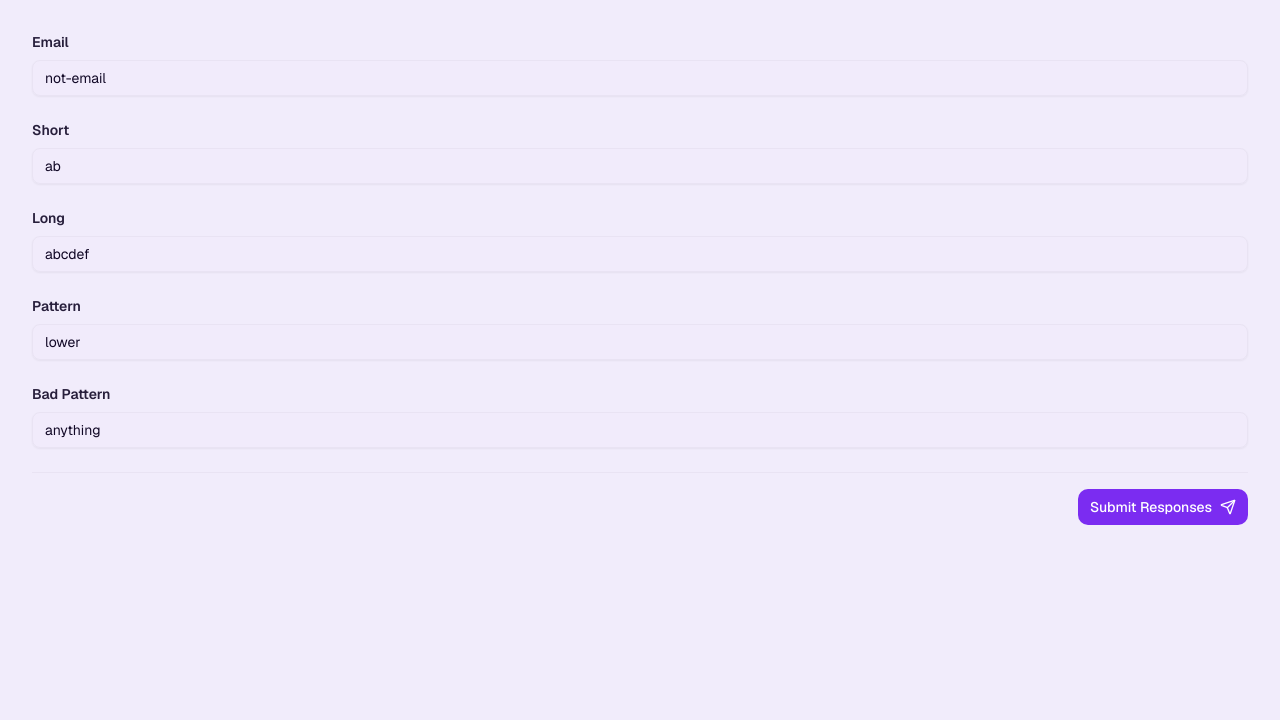
DynamicSurveyForm › validates email, minLength, maxLength, pattern, and invalid pattern fallback
Step 1. Click the button "Submit Responses" → (1163, 507), box [1078,489,1248,525]
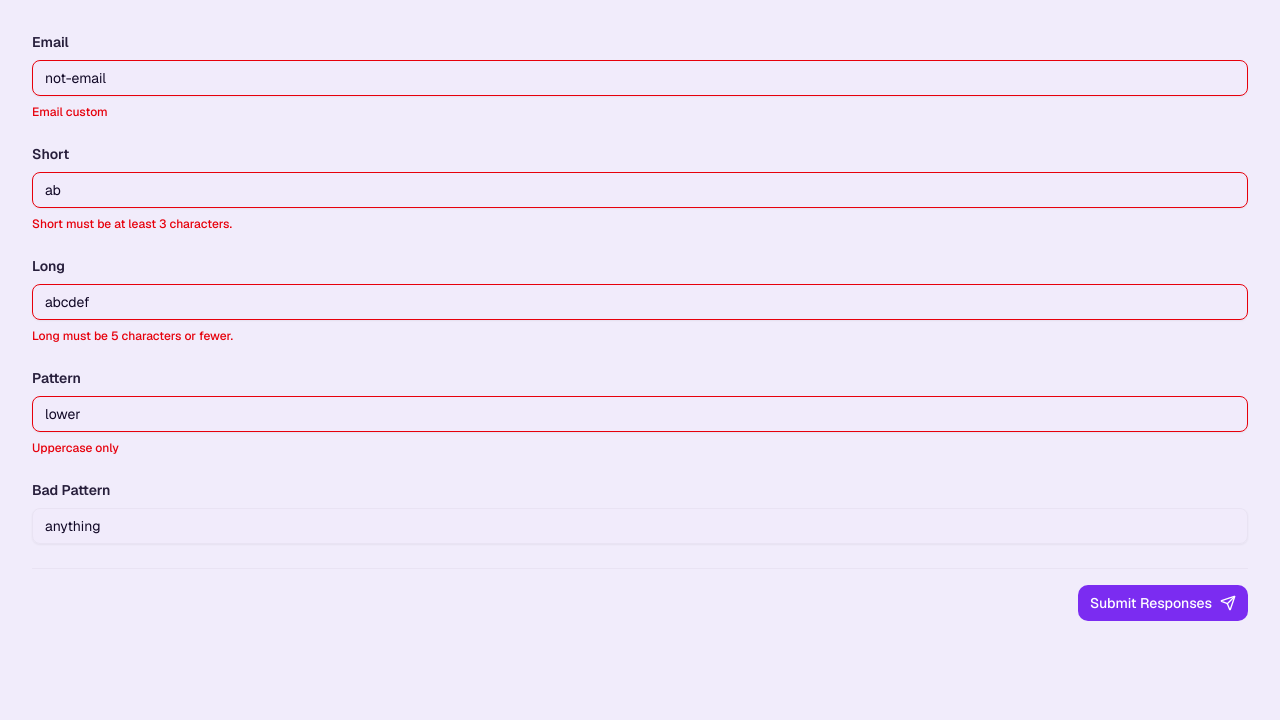
Expected: the text "Email custom" is shown, [32,104,108,120]
Expected: the text "Short must be at least 3 characters." is shown, [32,216,232,232]
Expected: the text "Long must be 5 characters or fewer." is shown, [32,328,233,344]
